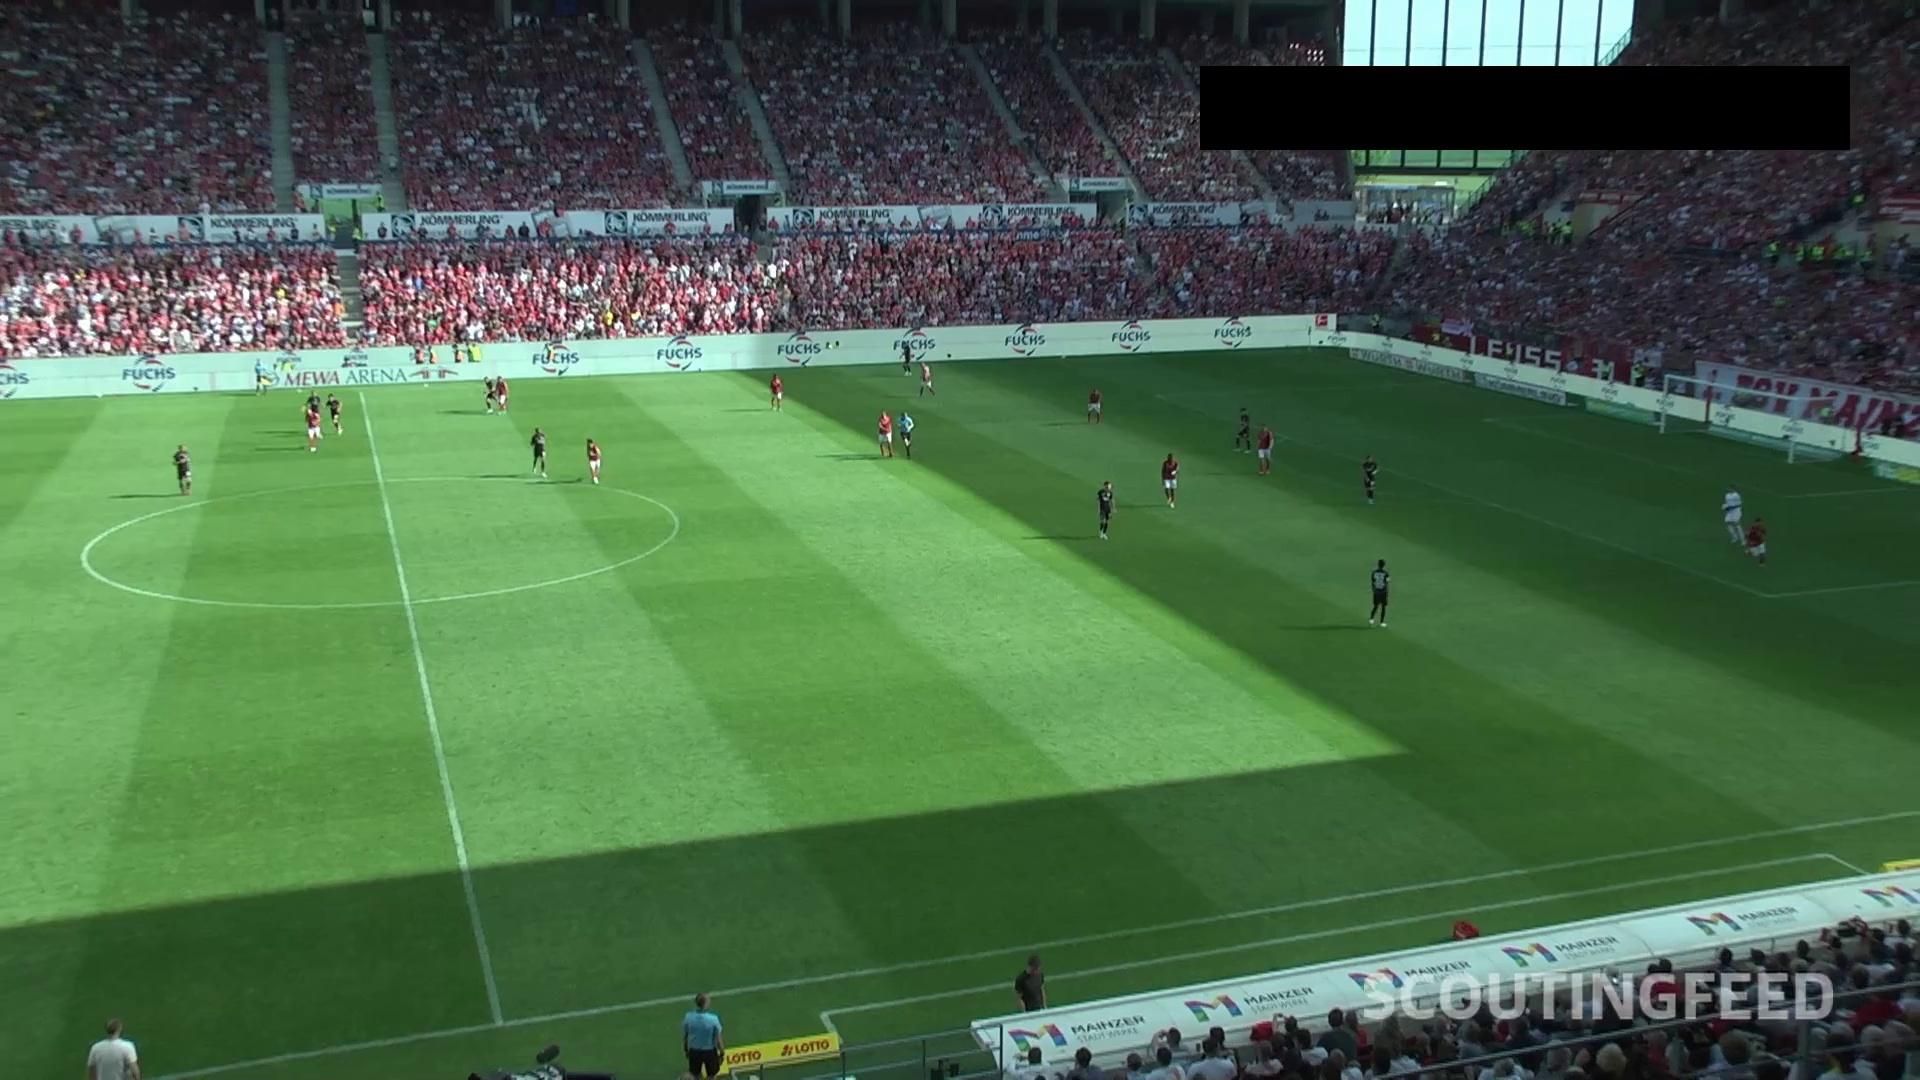Location-of-ball: (307, 442, 320, 456)
